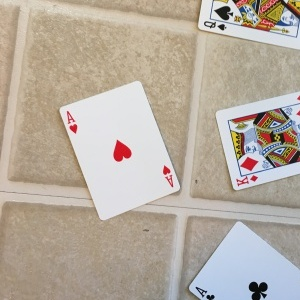card: (58, 81, 181, 219)
